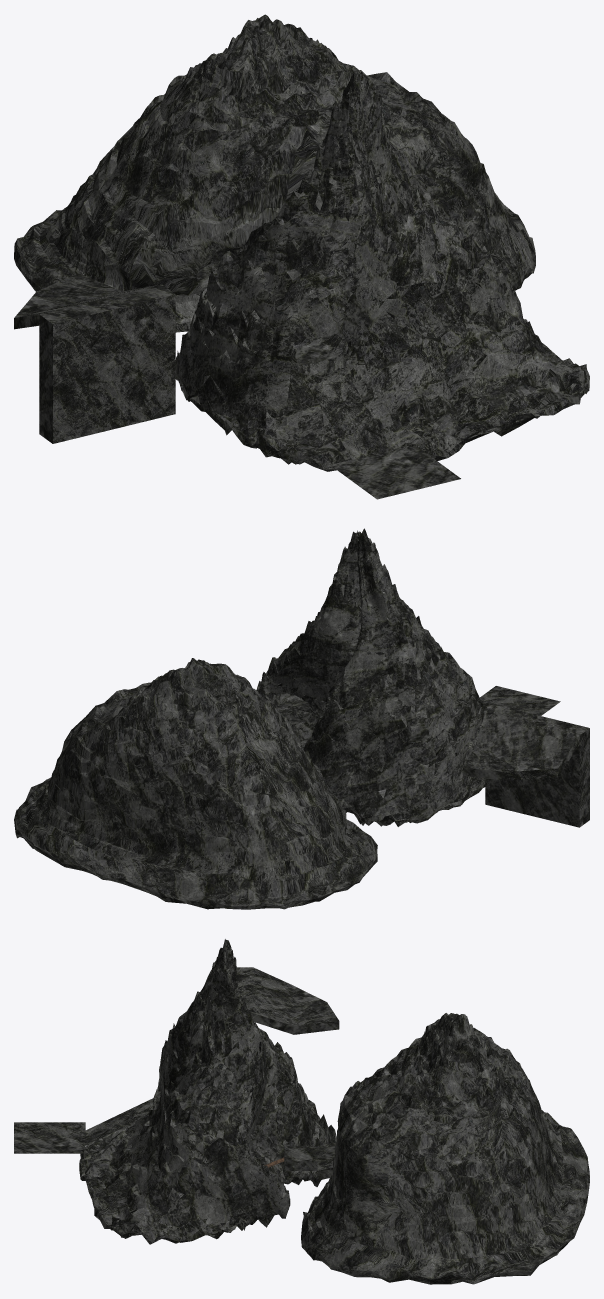
Rendered from terrain_vis.glb.
The picture shows the model from 3 angles, top to bottom: view 1: azimuth 30°, elevation 25°; view 2: azimuth 150°, elevation 25°; view 3: azimuth 270°, elevation 25°; orthographic projection. The views are drawn at different scales.
Parts seen in each view (by area): view 1: Mountain 1, Mountain 2, Floor, Chamber 1; view 2: Mountain 2, Mountain 1, Floor; view 3: Mountain 2, Mountain 1, Floor.
Boxes of the visible parts, <box> form: Mountain 1: <box>175,71,589,471</box>; Mountain 2: <box>14,14,535,332</box>; Floor: <box>14,260,460,499</box>; Chamber 1: <box>295,337,355,376</box>; Mountain 2: <box>14,658,377,909</box>; Mountain 1: <box>256,528,485,826</box>; Floor: <box>276,686,589,827</box>; Mountain 2: <box>301,1013,589,1284</box>; Mountain 1: <box>79,939,336,1244</box>; Floor: <box>14,967,339,1180</box>.
Bounding box in the file's own units: 107 × 56.45 × 120.
Materials: 2 (2 with a texture image).
